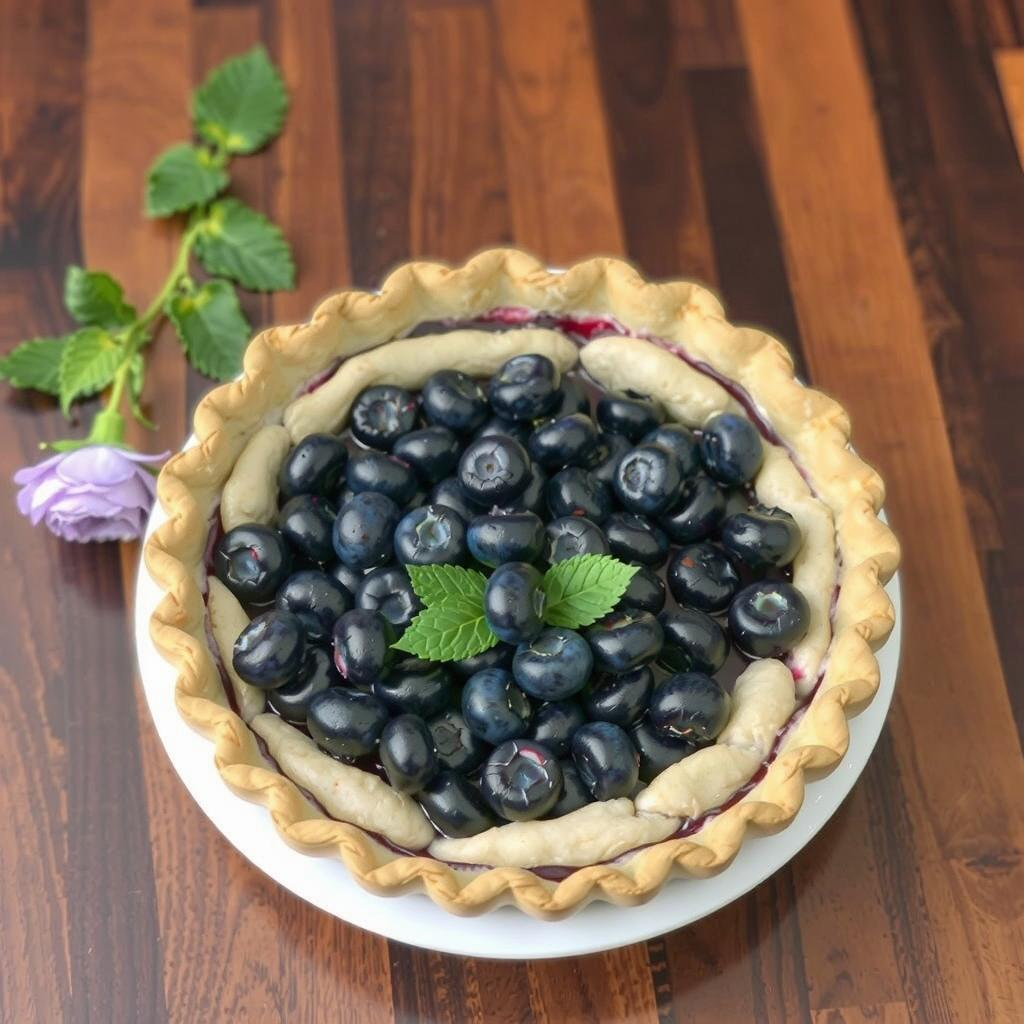pie: (130, 241, 907, 929)
